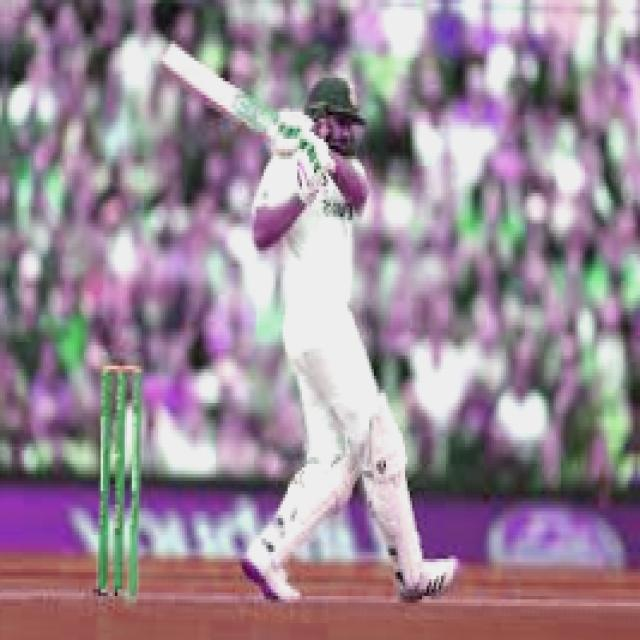toe: (158, 38, 177, 72)
